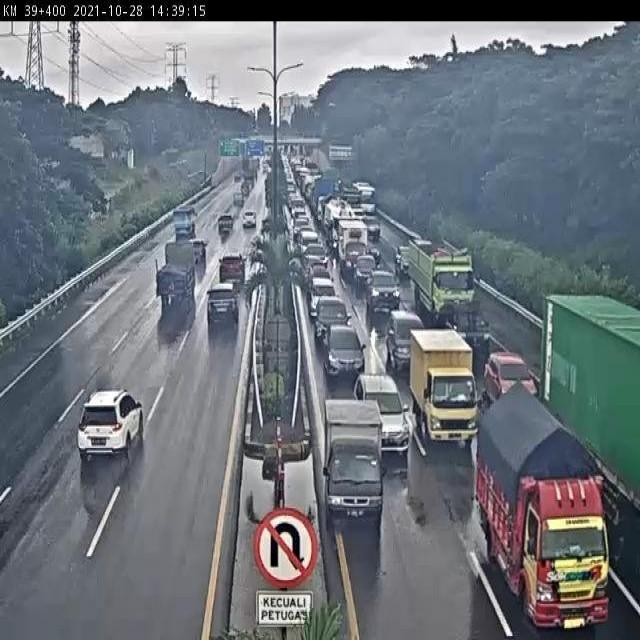big truck: (539, 281, 640, 539), (407, 232, 478, 329)
car: (67, 380, 162, 480), (357, 361, 425, 471), (479, 334, 542, 422), (322, 322, 369, 387), (442, 296, 493, 353), (199, 276, 251, 329), (209, 244, 259, 295), (315, 296, 353, 355), (388, 312, 425, 369), (367, 271, 403, 317), (215, 208, 237, 236), (243, 208, 259, 229)
mid truck: (469, 377, 635, 640), (403, 329, 485, 471), (147, 228, 203, 309)
small truck: (315, 393, 397, 543), (167, 204, 201, 239)
